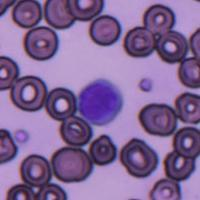L: (77, 77, 123, 125)
